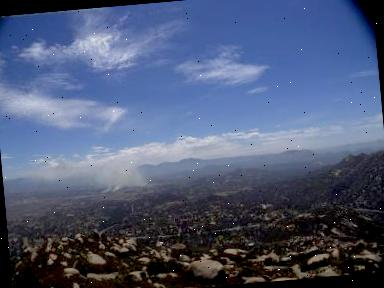smoke: (36, 148, 148, 200)
